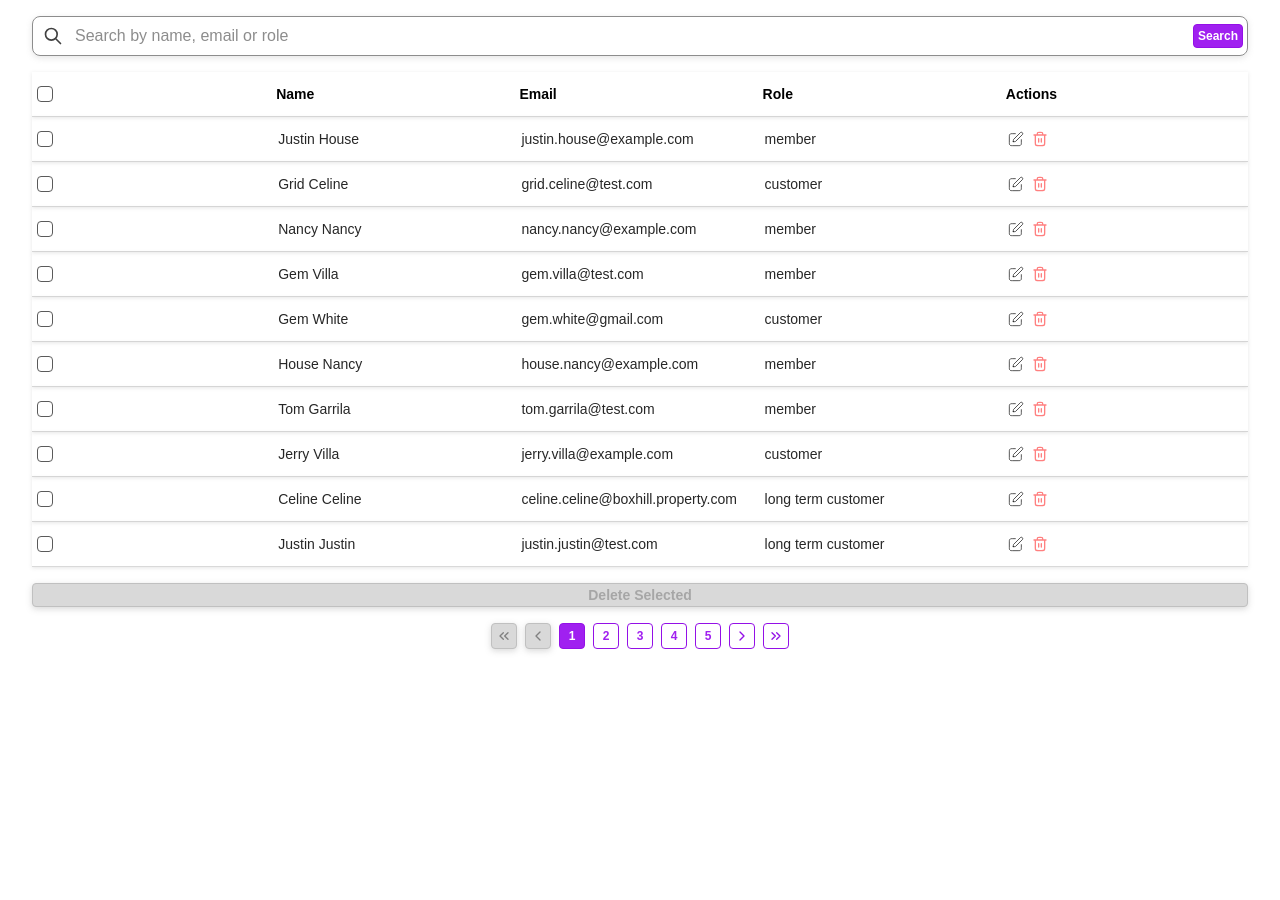
Test case: Admin Card test › Admin Card action test › click on bulk change page number should cancel bulk status
The width and height of the screenshot is (1280, 900).
# click on bulk select button
Click the checkbox with test id "bulk-select": (45, 94) left=37, top=86, right=53, bottom=102
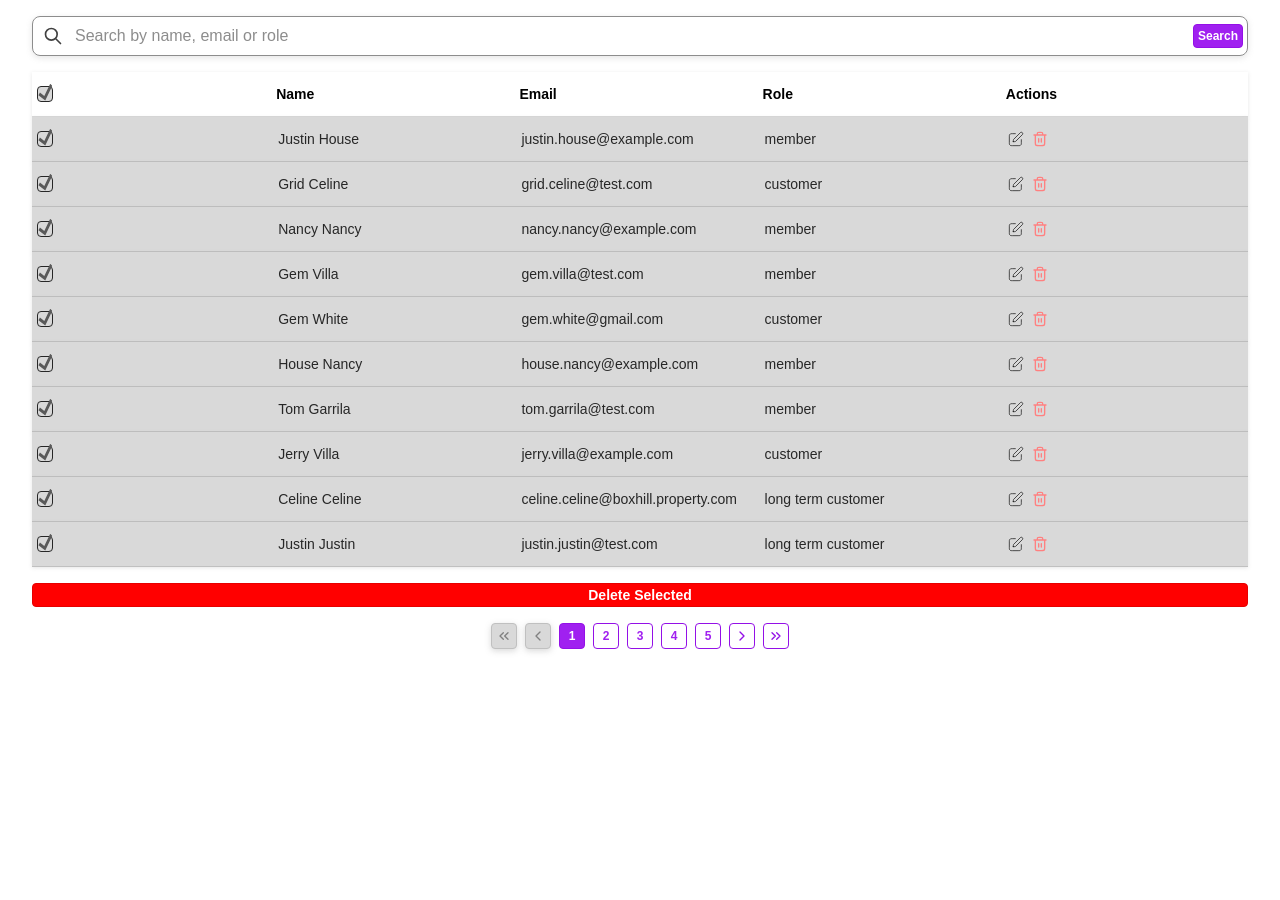
Now the checkbox with test id "bulk-select" is checked, box left=37, top=86, right=53, bottom=102
# switch page will cancel bulk select and reset all selected rows
Click the button with test id "pagination-next": (742, 636) left=729, top=623, right=755, bottom=649
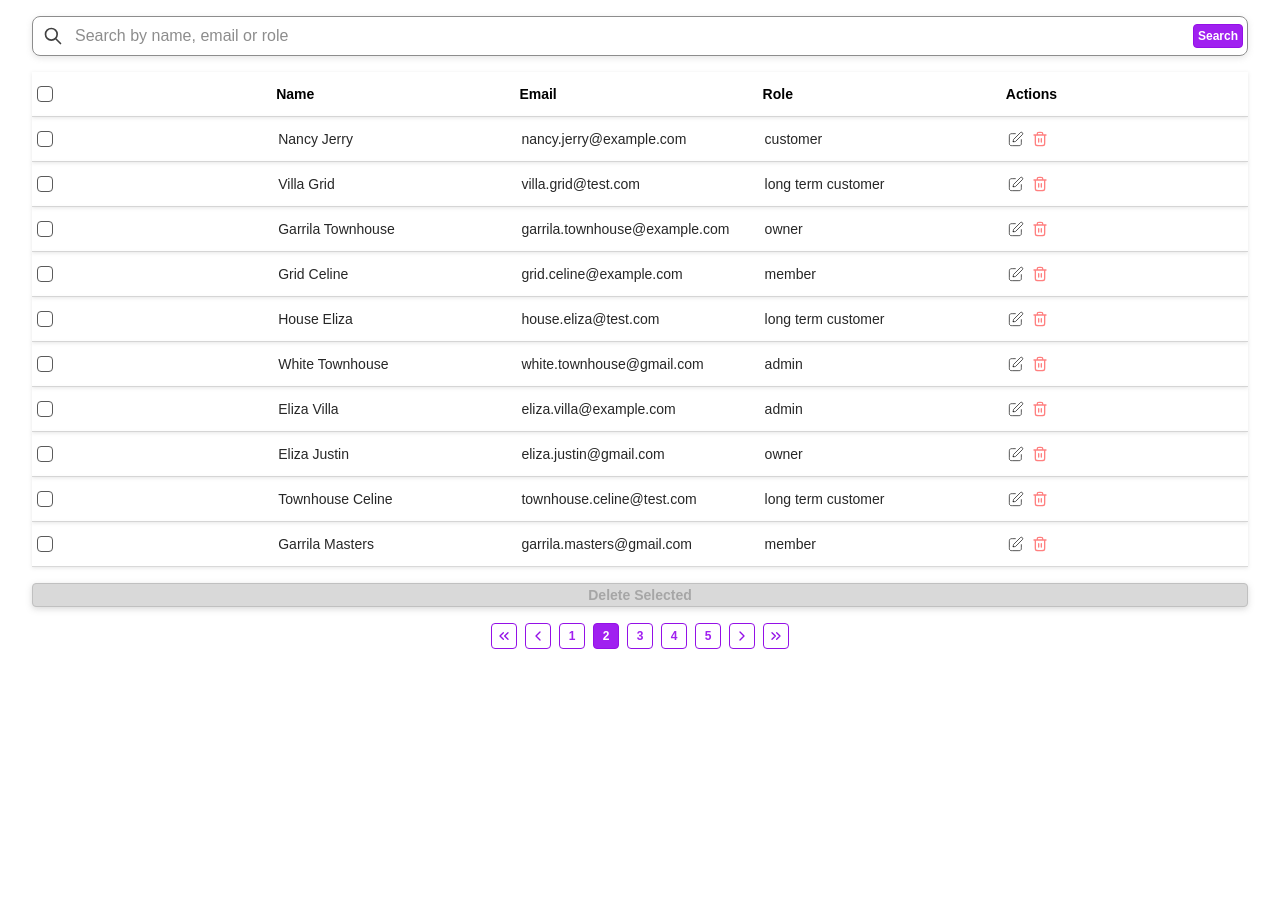
Now the checkbox with test id "bulk-select" is not checked, box left=37, top=86, right=53, bottom=102
Now no rows with class "userTable-selectedRow" are shown
